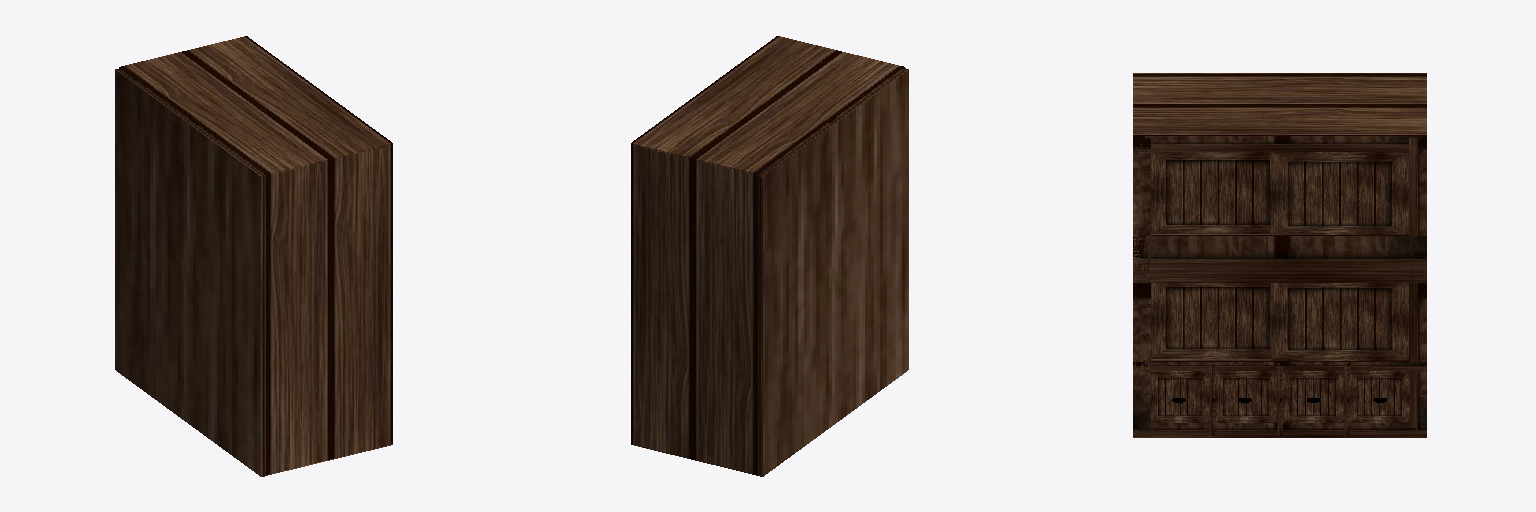
3 renders of one model, left to right at view 1: azimuth 30°, elevation 25°; view 2: azimuth 150°, elevation 25°; view 3: azimuth 270°, elevation 25°, orthographic.
Visible parts, largest first — view 1: pasted__pasted__pCube1 pasted__group3 group9, pasted__pasted__pCube1 pasted__group group2, pasted__pCube1 group4; view 2: pasted__pasted__pCube1 pasted__group3 group9, pasted__pasted__pCube1 pasted__group group1, pasted__pCube1 group4; view 3: pasted__pasted__pasted__pasted__pasted__pCube1 pasted__pasted__p, pasted__pCube1 group4, pasted__pasted__pCube1 pasted__group4 group5, pasted__pasted__pasted__pasted__pasted__pasted__pCube1 pasted__p, pasted__pasted__pasted__pasted__pCube1 pasted__pasted__pasted__g, pasted__pasted__pCube1 pasted__group group2, pasted__pasted__pCube1 pasted__group group1, pCube1, group11 pasted__pasted__pasted__pasted__pCube1 pasted__pasted__p, pasted__pasted__group11 pasted__group12 group13 pasted__pasted__, pasted__pasted__pasted__pCube1 pasted__pasted__group3 pasted__gr, pasted__pCube1 group3.
Boxes of the visible parts, <box> form: pasted__pasted__pCube1 pasted__group3 group9: <box>115,69,267,476</box>; pasted__pasted__pCube1 pasted__group group2: <box>266,145,392,474</box>; pasted__pCube1 group4: <box>119,36,392,175</box>; pasted__pasted__pCube1 pasted__group3 group9: <box>756,68,908,476</box>; pasted__pasted__pCube1 pasted__group group1: <box>631,145,757,474</box>; pasted__pCube1 group4: <box>631,36,904,175</box>; pasted__pasted__pasted__pasted__pasted__pCube1 pasted__pasted__p: <box>1151,152,1408,422</box>; pasted__pCube1 group4: <box>1133,74,1426,151</box>; pasted__pasted__pCube1 pasted__group4 group5: <box>1133,234,1426,282</box>; pasted__pasted__pasted__pasted__pasted__pasted__pCube1 pasted__p: <box>1270,152,1408,234</box>; pasted__pasted__pasted__pasted__pCube1 pasted__pasted__pasted__g: <box>1151,283,1349,435</box>; pasted__pasted__pCube1 pasted__group group2: <box>1133,138,1150,430</box>; pasted__pasted__pCube1 pasted__group group1: <box>1409,138,1426,429</box>; pCube1: <box>1133,423,1426,437</box>; group11 pasted__pasted__pasted__pasted__pCube1 pasted__pasted__p: <box>1215,371,1276,422</box>; pasted__pasted__group11 pasted__group12 group13 pasted__pasted__: <box>1349,371,1409,422</box>; pasted__pasted__pasted__pCube1 pasted__pasted__group3 pasted__gr: <box>1151,371,1209,422</box>; pasted__pCube1 group3: <box>1133,359,1426,370</box>.
Bounding box in the file's own units: 6.38 × 13.52 × 11.93.
Materials: 2 (1 with a texture image).